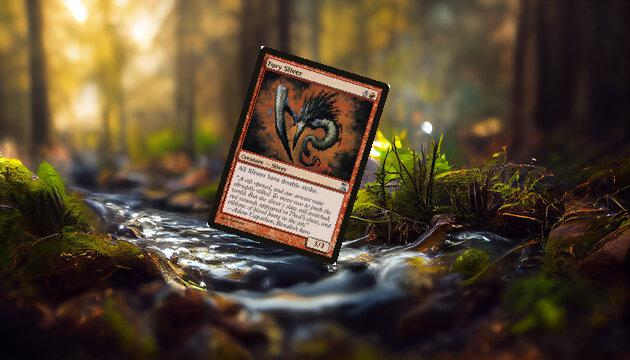mtgCard: (206, 45, 391, 266)
